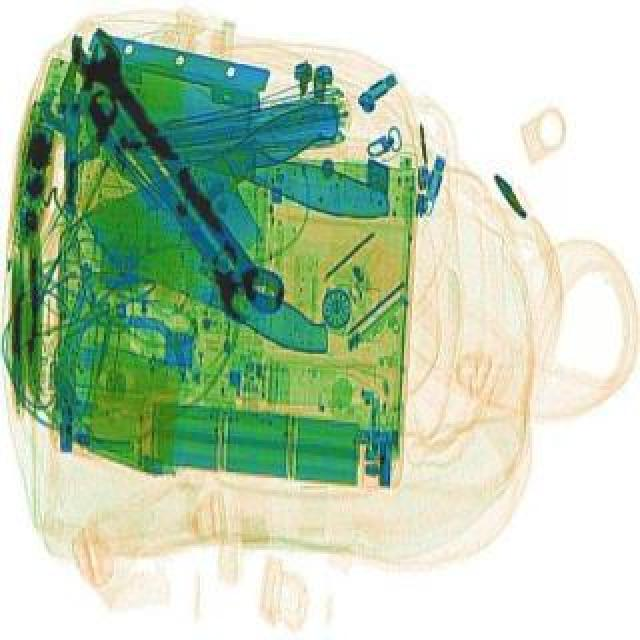knife: (72, 96, 380, 308), (62, 52, 412, 232), (74, 216, 342, 376)
scissors: (62, 24, 294, 326)
